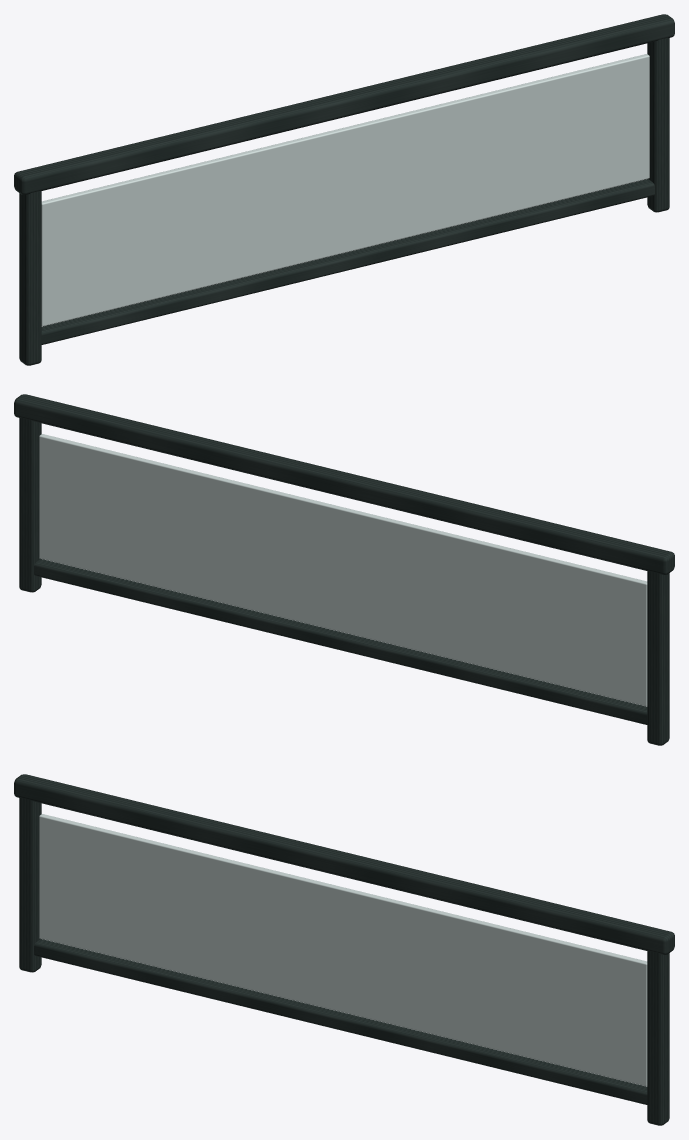
File: railing.glb
3 renders of one model, top to bottom at view 1: azimuth 30°, elevation 25°; view 2: azimuth 150°, elevation 25°; view 3: azimuth 330°, elevation 25°, orthographic.
Visible parts, largest first — view 1: Railing_Glass, Railing_Top, Railing_Bottom, Railing_Post_-1.92, Railing_Post_1.92; view 2: Railing_Glass, Railing_Top, Railing_Bottom, Railing_Post_-1.92, Railing_Post_1.92; view 3: Railing_Glass, Railing_Top, Railing_Bottom, Railing_Post_1.92, Railing_Post_-1.92.
Part boxes in pixels (x1=…): Railing_Glass: x1=41, y1=54, x2=649, y2=326; Railing_Top: x1=14, y1=14, x2=674, y2=194; Railing_Bottom: x1=41, y1=179, x2=654, y2=344; Railing_Post_-1.92: x1=19, y1=191, x2=41, y2=365; Railing_Post_1.92: x1=647, y1=37, x2=669, y2=212; Railing_Glass: x1=39, y1=434, x2=647, y2=706; Railing_Top: x1=14, y1=394, x2=674, y2=574; Railing_Bottom: x1=34, y1=559, x2=647, y2=724; Railing_Post_-1.92: x1=647, y1=571, x2=669, y2=745; Railing_Post_1.92: x1=19, y1=417, x2=41, y2=592; Railing_Glass: x1=39, y1=814, x2=647, y2=1086; Railing_Top: x1=14, y1=774, x2=674, y2=954; Railing_Bottom: x1=34, y1=939, x2=647, y2=1104; Railing_Post_1.92: x1=647, y1=951, x2=669, y2=1125; Railing_Post_-1.92: x1=19, y1=797, x2=41, y2=972.
Size of the model in its own units: 4 by 1.12 by 0.11.
2 materials, 1 textured.
